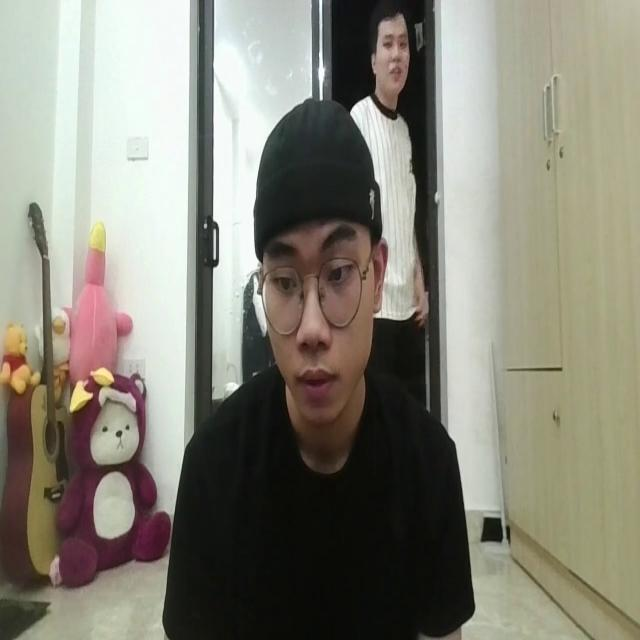extra_person: (341, 3, 443, 356)
student: (176, 86, 464, 640)
